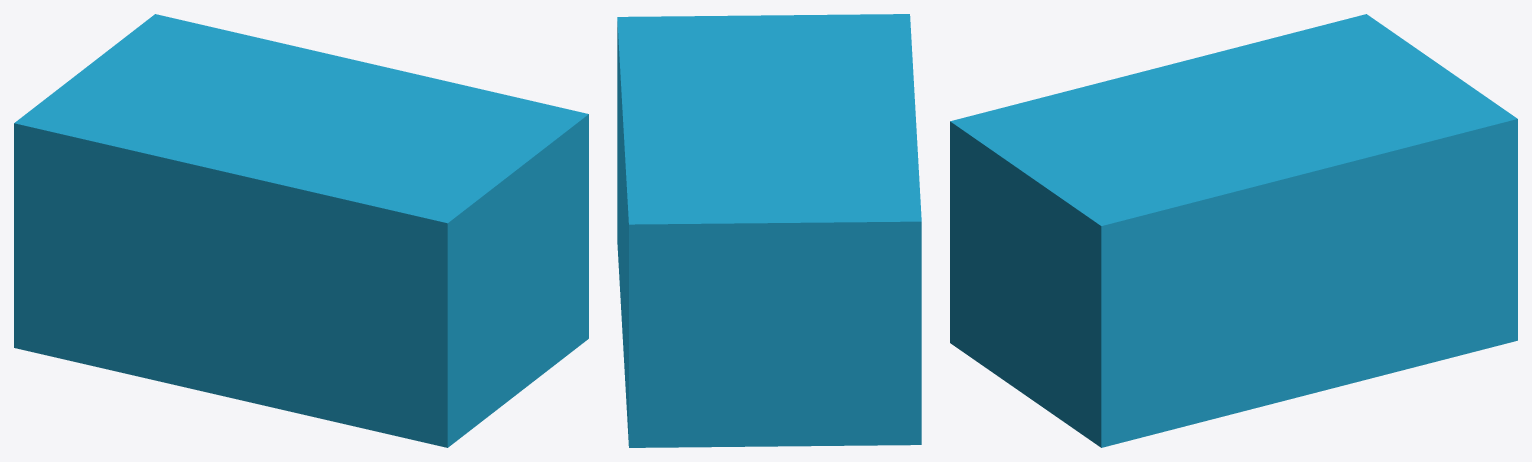
3 views of the same model, side by side, from view 1: azimuth 30°, elevation 25°; view 2: azimuth 150°, elevation 25°; view 3: azimuth 270°, elevation 25° (orthographic).
Visible parts, largest first — view 1: Visual_Cube; view 2: Visual_Cube; view 3: Visual_Cube.
Boxes of the visible parts, bbox=[...] form: Visual_Cube: bbox=[14, 14, 588, 447]; Visual_Cube: bbox=[617, 14, 921, 447]; Visual_Cube: bbox=[950, 14, 1517, 447].
Size of the model in its own units: 199 by 96.81 by 225.
